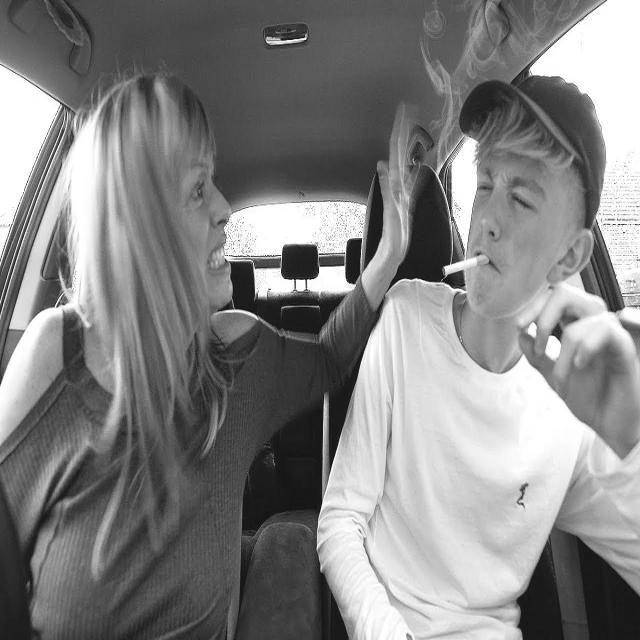Cigarette: (435, 243, 494, 287)
